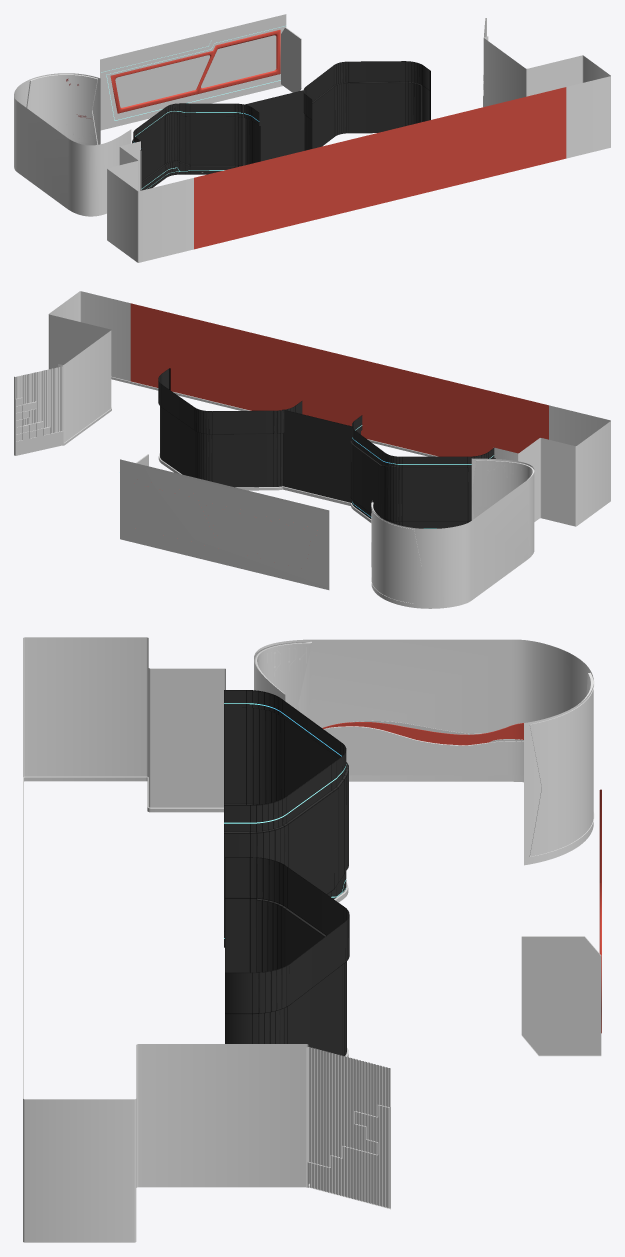
The model's file is Wall.fbx.
The picture shows the model from 3 angles, top to bottom: view 1: azimuth 30°, elevation 25°; view 2: azimuth 150°, elevation 25°; view 3: azimuth 270°, elevation 25°; orthographic projection. The views are drawn at different scales.
Parts seen in each view (by area): view 1: Wall_1, Wall_5, Wall_6, Wall_2, Wall_3, Plane; view 2: Wall_1, Wall_5, Wall_6, Wall_2, 永远跟着党走, Wall_4, Beam1, Beam2; view 3: Wall_1, Wall_5, Wall_2, 永远跟着党走, Plane, Wall_2_1, Wall_4, Beam1.
Boxes of the visible parts, box(x1,y1,x2,y2) form: Wall_1: box(107, 36, 610, 262); Wall_5: box(132, 61, 430, 190); Wall_6: box(100, 14, 286, 130); Wall_2: box(14, 73, 131, 216); Wall_3: box(26, 74, 97, 144); Plane: box(281, 27, 301, 92); Wall_1: box(48, 291, 610, 526); Wall_5: box(158, 368, 495, 528); Wall_6: box(120, 459, 329, 589); Wall_2: box(371, 458, 534, 608); 永远跟着党走: box(14, 366, 63, 455); Wall_4: box(471, 460, 534, 518); Beam1: box(63, 376, 437, 456); Beam2: box(158, 453, 371, 522); Wall_1: box(23, 637, 308, 1242); Wall_5: box(224, 690, 349, 1056); Wall_2: box(254, 639, 593, 865); 永远跟着党走: box(306, 1047, 390, 1209); Plane: box(521, 936, 601, 1056); Wall_2_1: box(322, 720, 523, 775); Wall_4: box(254, 641, 311, 711); Beam1: box(23, 776, 309, 1186).
Size of the model in its own units: 2087 by 302 by 1106.
